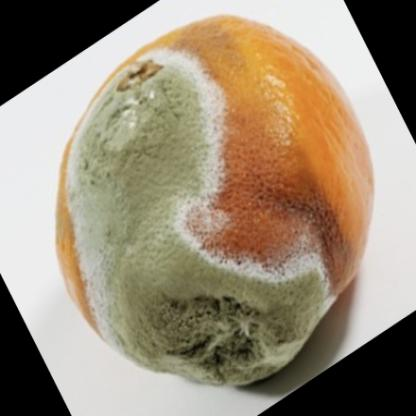rotten: (61, 18, 374, 393)
